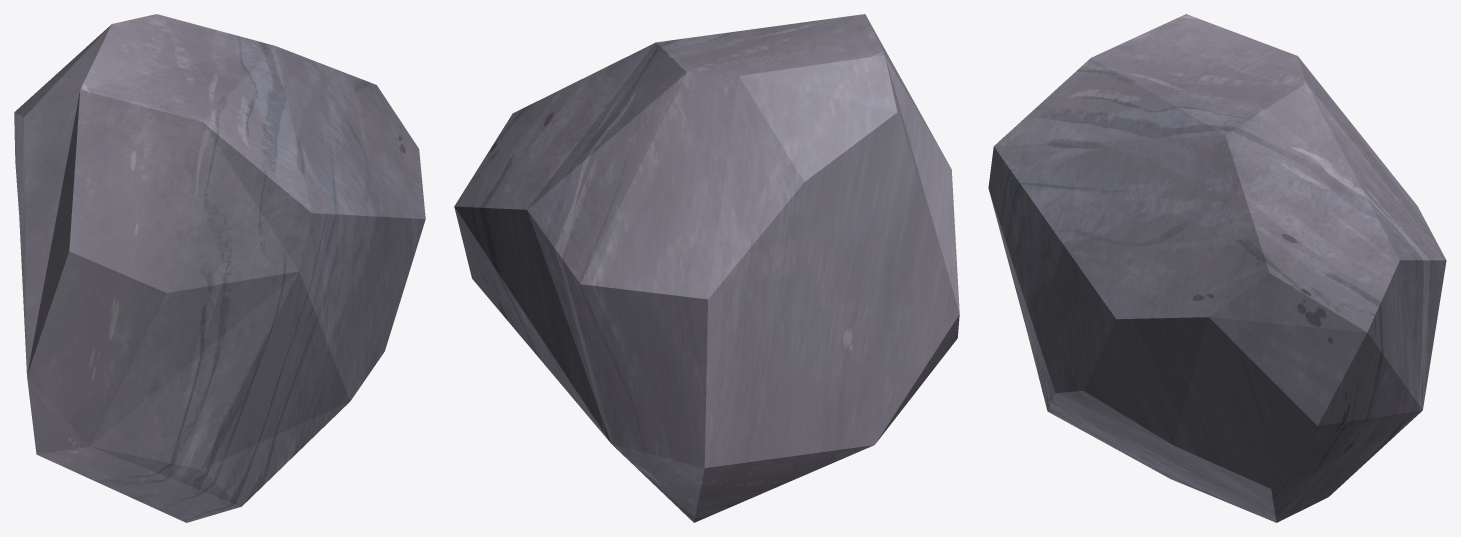
File: rock_2_012.fbx
The picture shows the model from 3 angles, left to right: view 1: azimuth 30°, elevation 25°; view 2: azimuth 150°, elevation 25°; view 3: azimuth 270°, elevation 25°; orthographic projection. The views are drawn at different scales.
Parts seen in each view (by area): view 1: rock 2.012; view 2: rock 2.012; view 3: rock 2.012.
Boxes of the visible parts, x1=… form: rock 2.012: x1=14, y1=14, x2=425, y2=522; rock 2.012: x1=454, y1=14, x2=959, y2=522; rock 2.012: x1=988, y1=14, x2=1446, y2=522.
Bounding box in the file's own units: 261 × 281 × 263.
